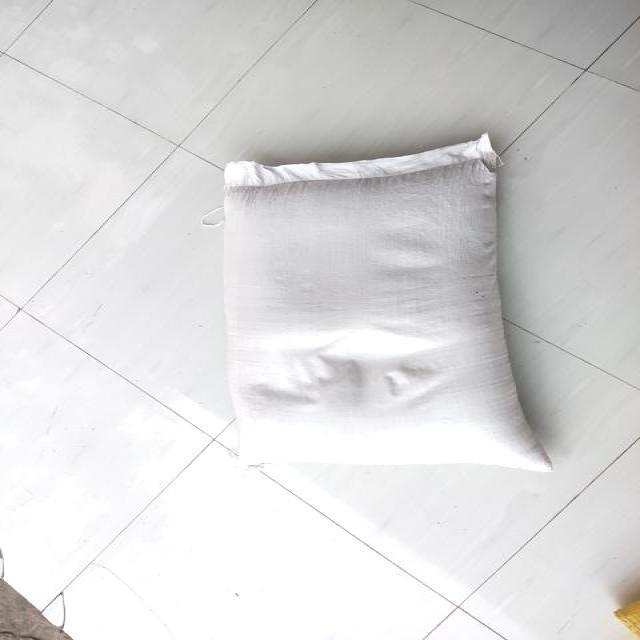gunny_bag: (224, 136, 551, 472)
